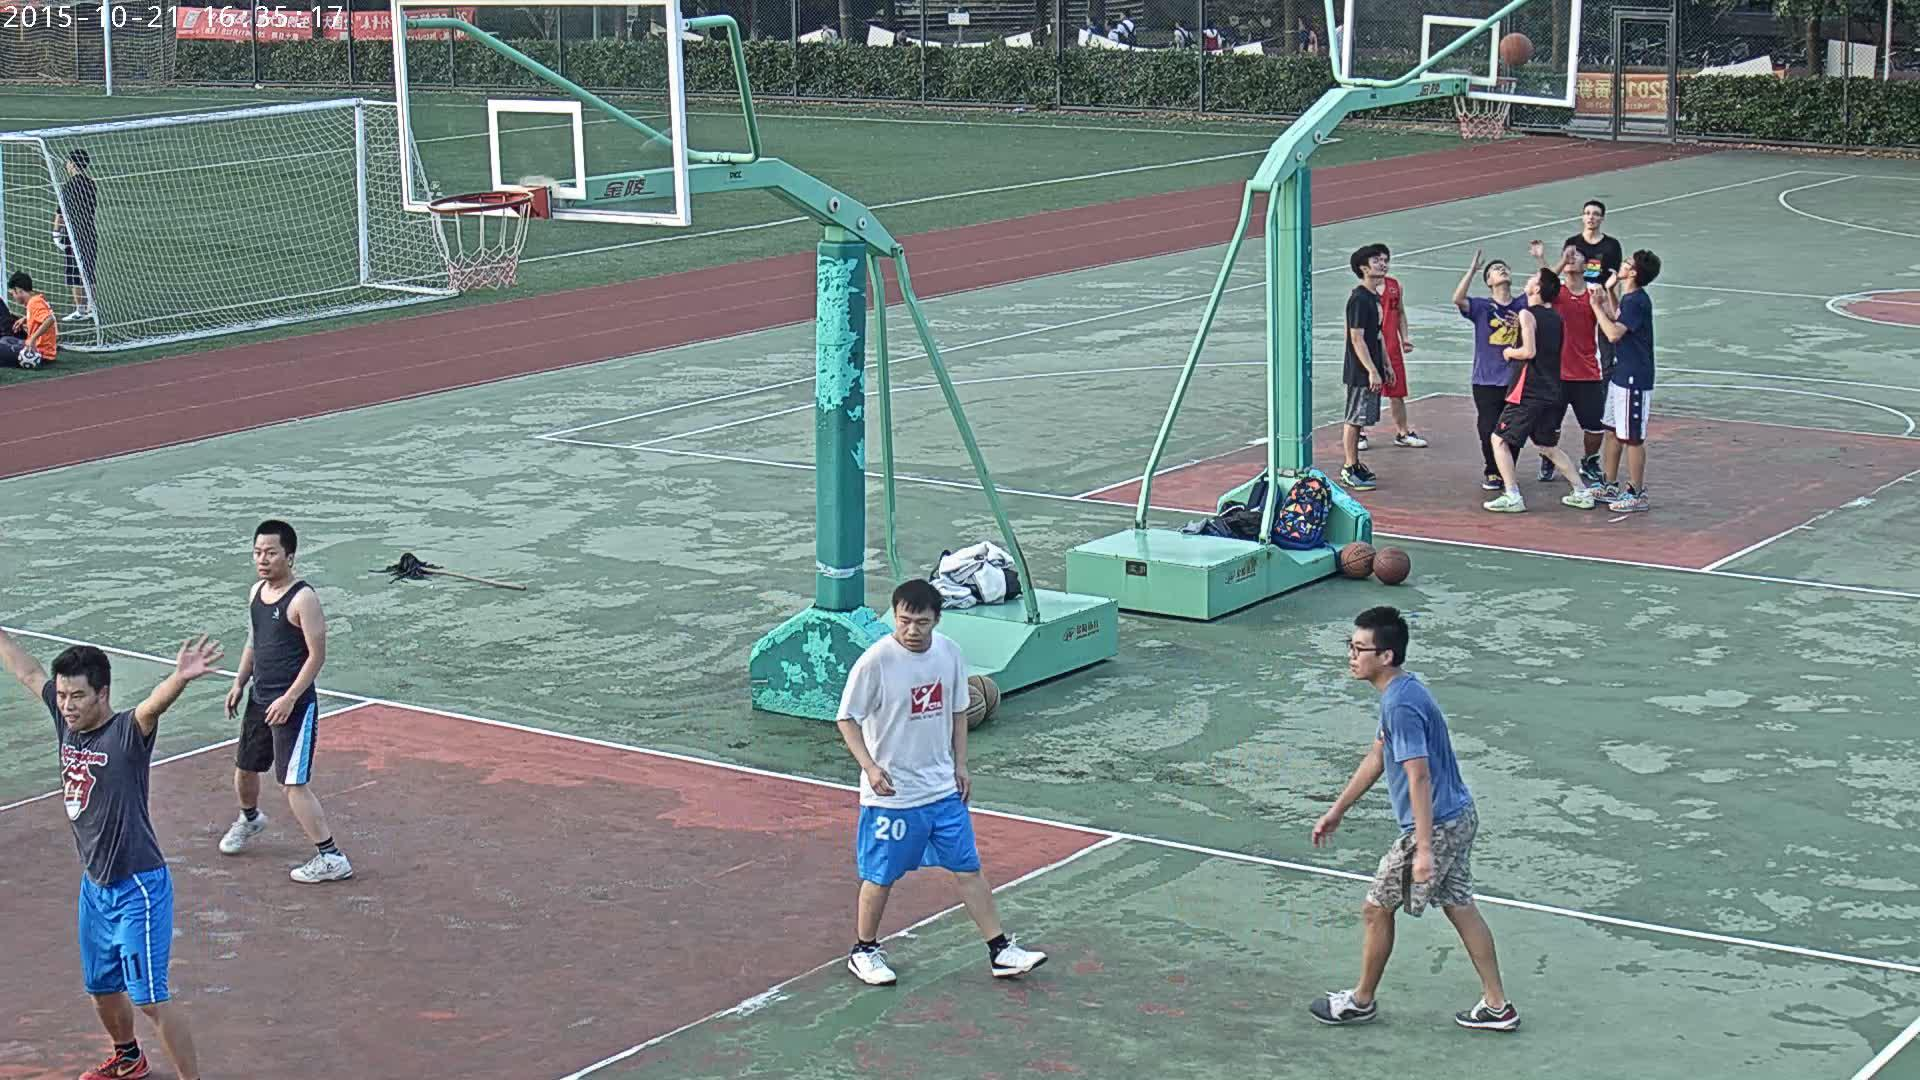person: (0, 630, 224, 1080), (1303, 605, 1519, 1033), (836, 577, 1050, 990), (218, 520, 355, 883), (1481, 266, 1597, 513), (1451, 238, 1549, 492), (1589, 247, 1661, 515), (1536, 245, 1607, 485), (1353, 244, 1428, 449), (1338, 247, 1397, 492), (49, 147, 99, 323), (0, 270, 58, 371), (1559, 200, 1624, 282)
